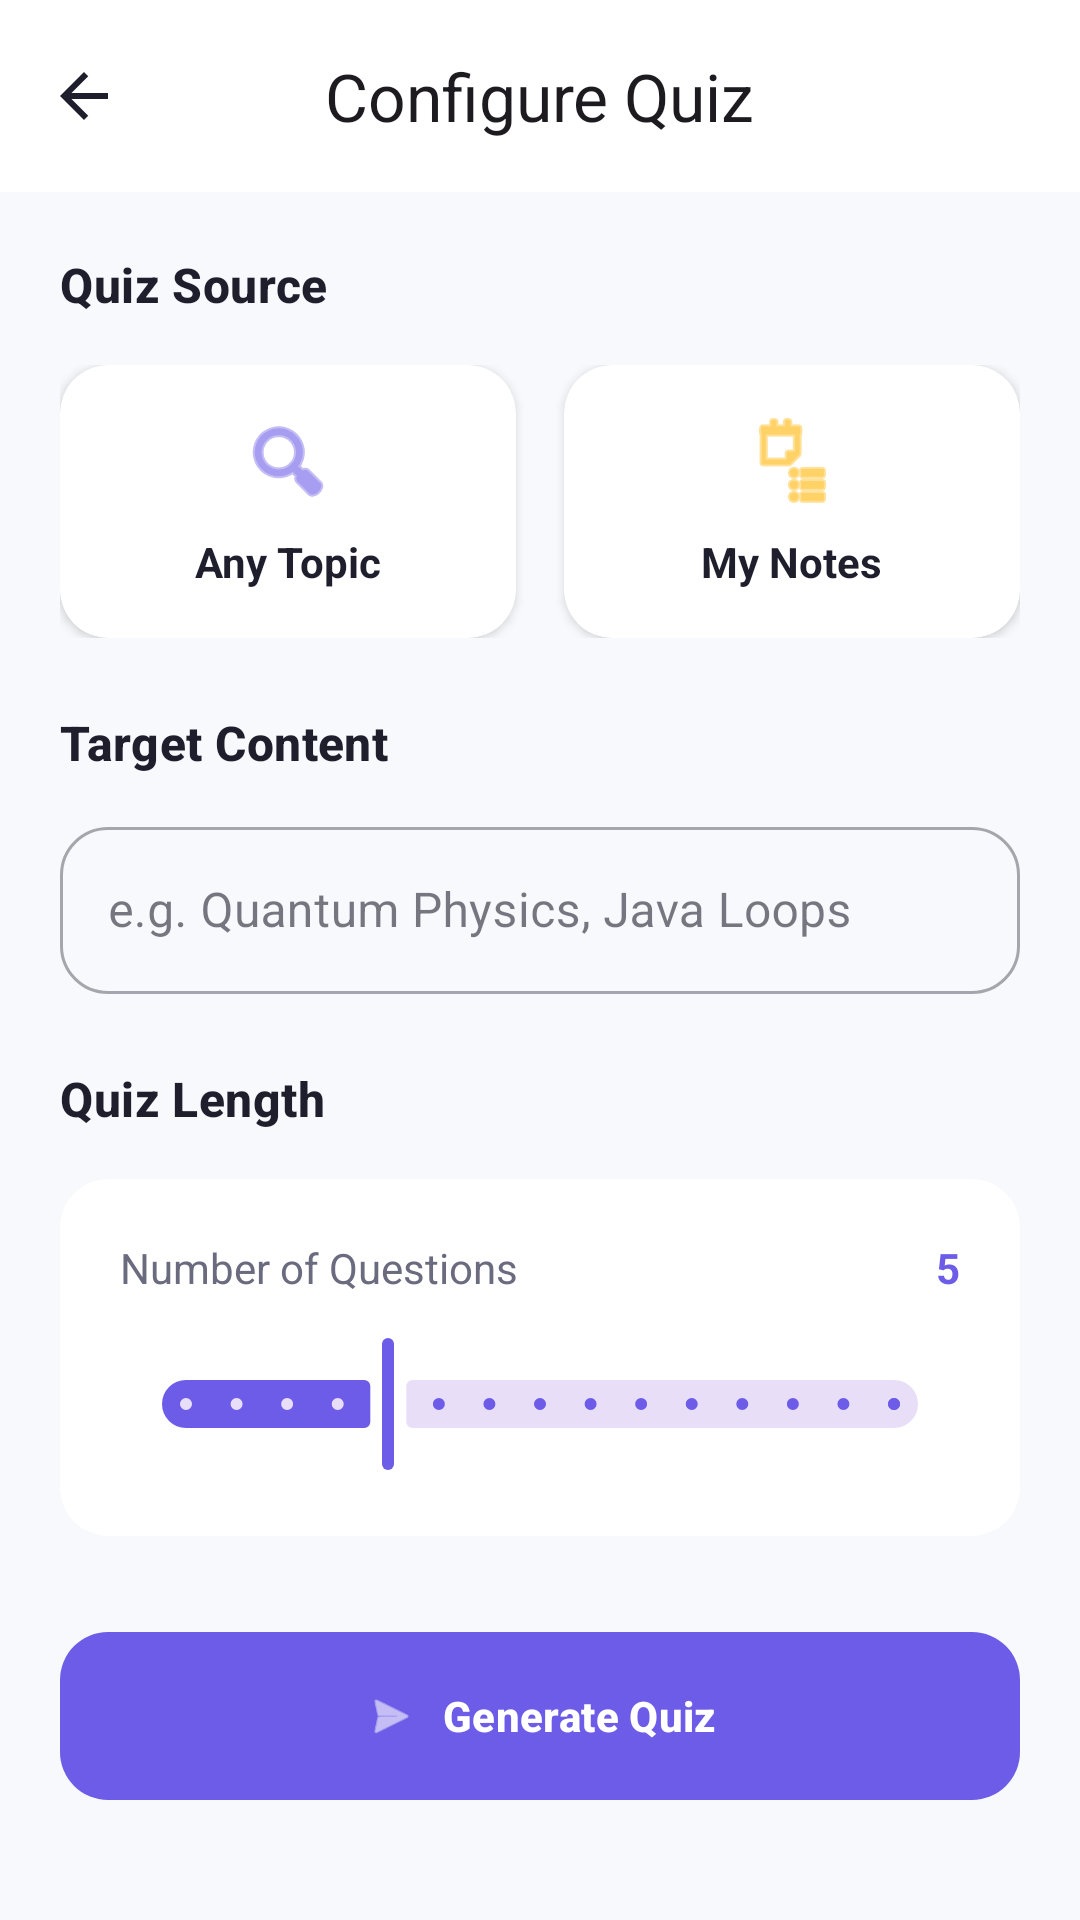

Icons on this 1080px×1920px Android screen, each with its box as (x1, y1, x2, y2):
agenda: (759, 418, 826, 503)
search: (253, 426, 323, 497)
